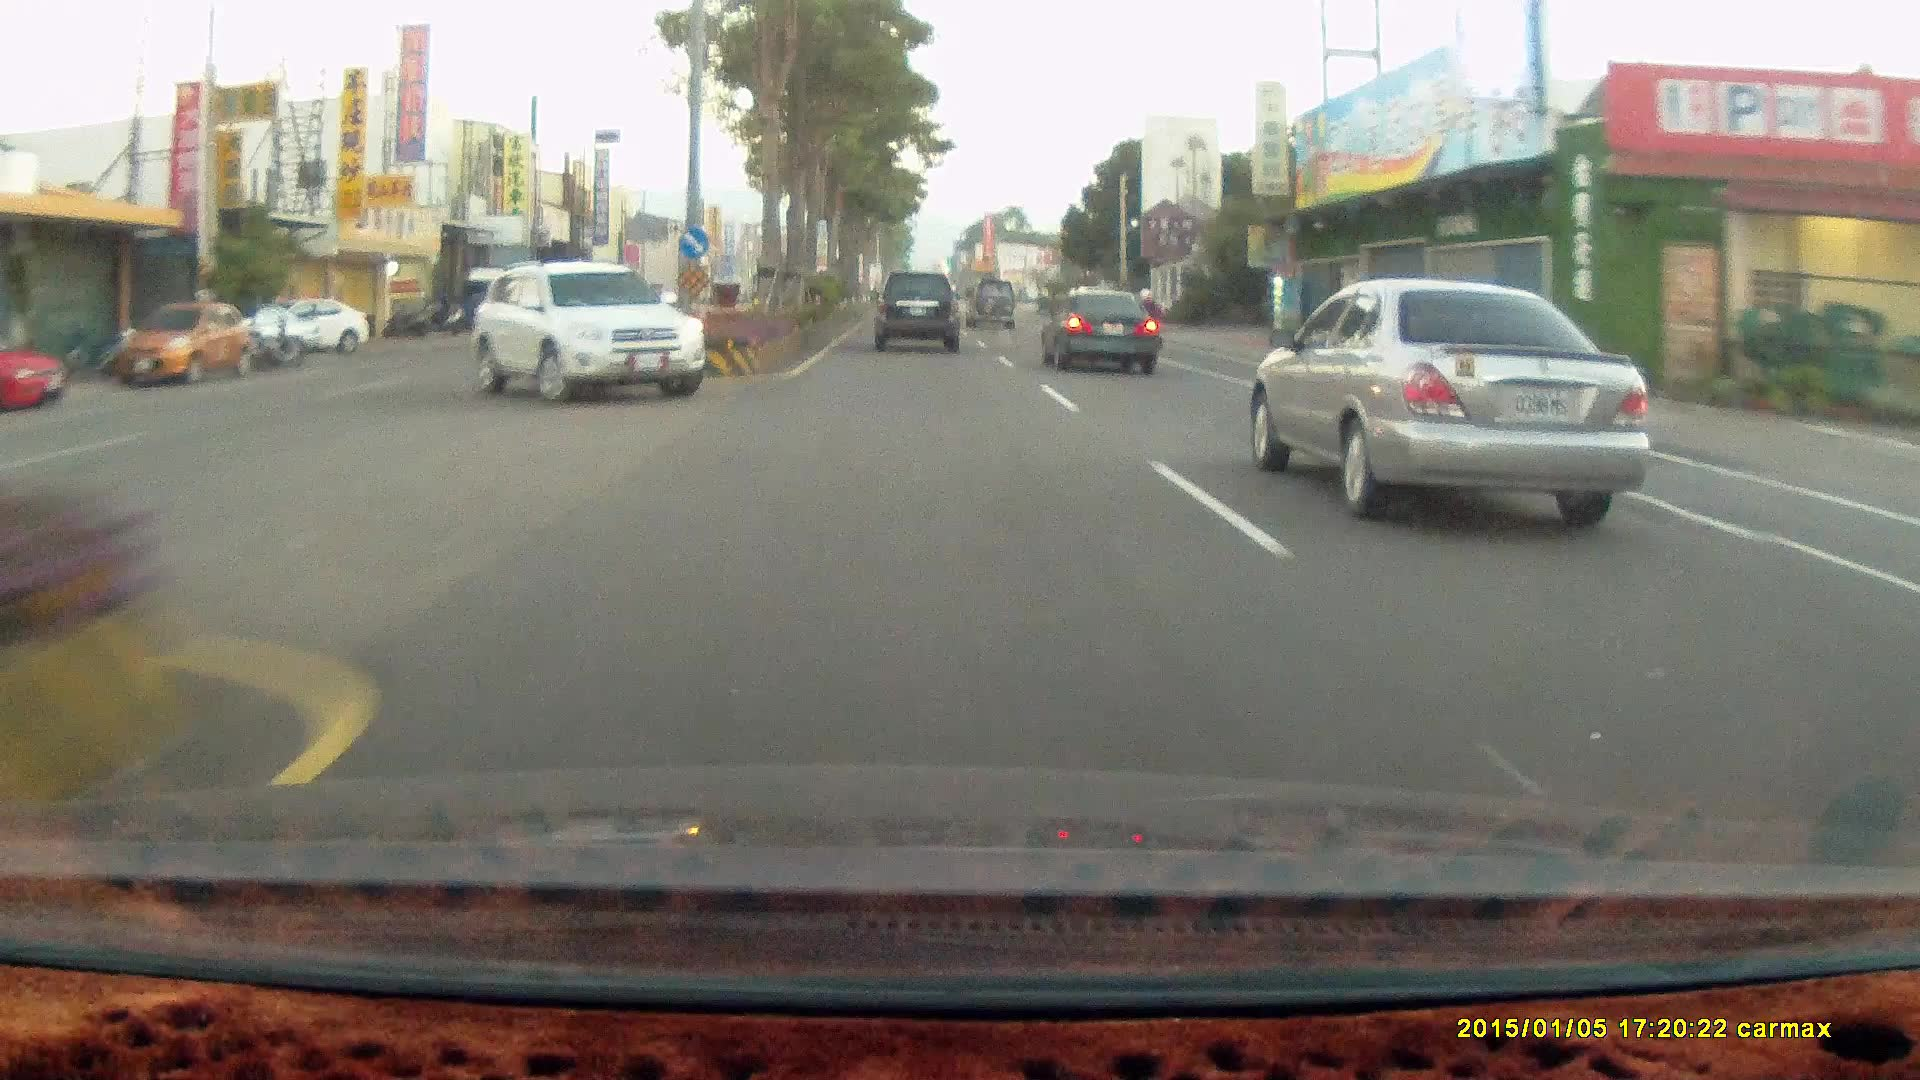vehicle: (1255, 277, 1654, 526), (469, 262, 709, 402), (468, 265, 709, 404), (102, 305, 255, 394), (109, 302, 256, 389), (1038, 287, 1156, 375), (1046, 295, 1162, 380), (872, 272, 967, 359), (252, 302, 371, 361), (251, 295, 371, 353), (873, 272, 959, 349), (1, 326, 67, 417), (965, 281, 1021, 334), (964, 278, 1015, 330)
